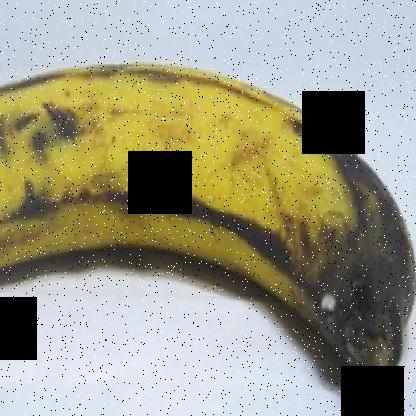overripe: (1, 48, 415, 415)
rotten: (242, 139, 415, 380)
